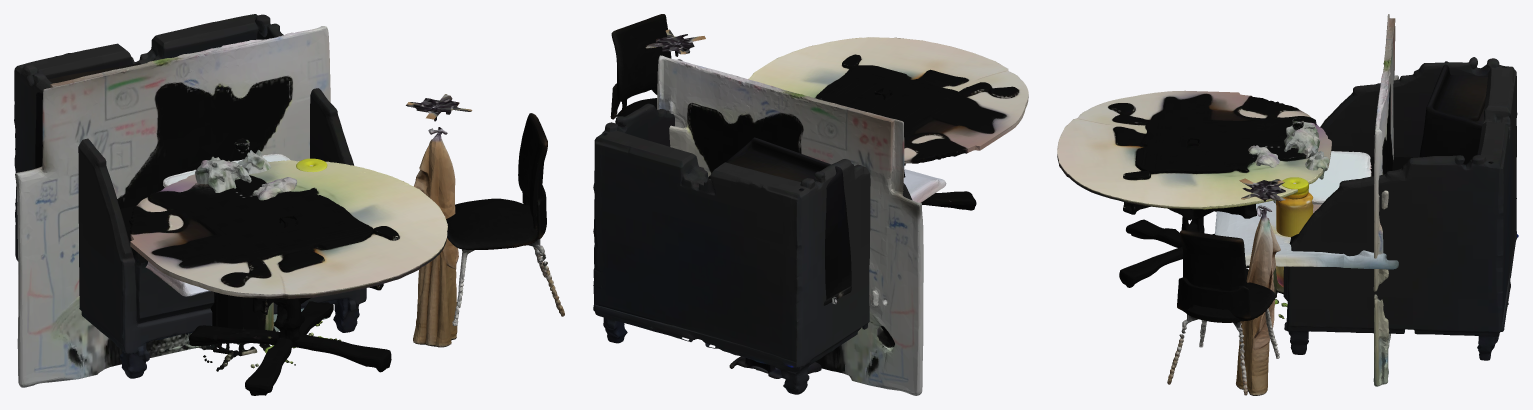
The model's file is scenegen.glb.
3 views of the same model, side by side, from view 1: azimuth 30°, elevation 25°; view 2: azimuth 150°, elevation 25°; view 3: azimuth 270°, elevation 25° (orthographic). The views are drawn at different scales.
Parts seen in each view (by area): view 1: geometry_7, geometry_5, geometry_6, geometry_4, geometry_8, geometry_3, geometry_9, geometry_2; view 2: geometry_6, geometry_7, geometry_5, geometry_9, geometry_4, geometry_2, geometry_8; view 3: geometry_6, geometry_5, geometry_4, geometry_9, geometry_8, geometry_7, geometry_2, geometry_3, geometry_1, geometry_0.
Part boxes in pixels (bbox=[...]): geometry_7: bbox=[15, 26, 330, 387]; geometry_5: bbox=[129, 160, 447, 395]; geometry_6: bbox=[14, 14, 366, 378]; geometry_4: bbox=[446, 113, 564, 326]; geometry_8: bbox=[406, 94, 472, 347]; geometry_3: bbox=[159, 138, 341, 371]; geometry_9: bbox=[35, 62, 141, 168]; geometry_2: bbox=[145, 261, 210, 296]; geometry_6: bbox=[593, 103, 912, 394]; geometry_7: bbox=[657, 55, 923, 395]; geometry_5: bbox=[748, 37, 1028, 210]; geometry_9: bbox=[708, 137, 851, 387]; geometry_4: bbox=[610, 14, 671, 123]; geometry_2: bbox=[903, 169, 946, 202]; geometry_8: bbox=[645, 29, 705, 60]; geometry_6: bbox=[1283, 57, 1518, 360]; geometry_5: bbox=[1057, 90, 1331, 287]; geometry_4: bbox=[1167, 230, 1279, 395]; geometry_9: bbox=[1419, 61, 1492, 164]; geometry_8: bbox=[1236, 178, 1285, 395]; geometry_7: bbox=[1373, 14, 1398, 386]; geometry_2: bbox=[1215, 200, 1398, 269]; geometry_3: bbox=[1246, 118, 1329, 318]; geometry_1: bbox=[1308, 151, 1371, 213]; geometry_0: bbox=[1276, 177, 1313, 286].
Size of the model in its own units: 1.91 by 1.23 by 1.96.
Materials: 10 (10 with a texture image).
